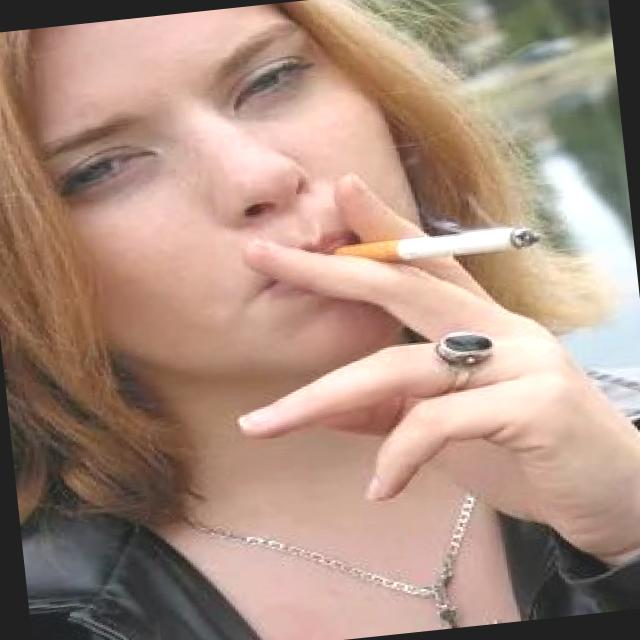cigarette: (328, 220, 549, 274)
